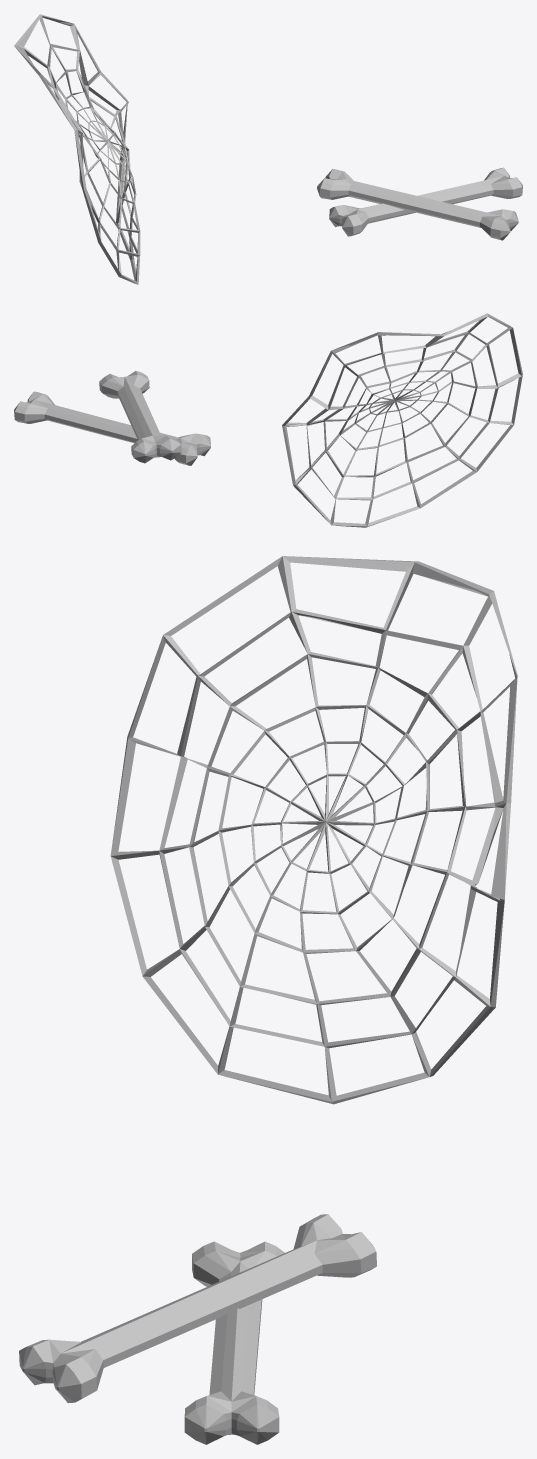
Rendered from ChestV3_Loot.fbx.
3 views of the same model, one above another, from view 1: azimuth 30°, elevation 25°; view 2: azimuth 150°, elevation 25°; view 3: azimuth 270°, elevation 25° (orthographic). The views are drawn at different scales.
Parts seen in each view (by area): view 1: ChestV3_Loot; view 2: ChestV3_Loot; view 3: ChestV3_Loot.
Part boxes in pixels (<box>): ChestV3_Loot: <box>14,14,522,284</box>; ChestV3_Loot: <box>14,313,522,527</box>; ChestV3_Loot: <box>19,556,517,1444</box>.
Bounding box in the file's own units: 60.61 × 28.84 × 28.21.
